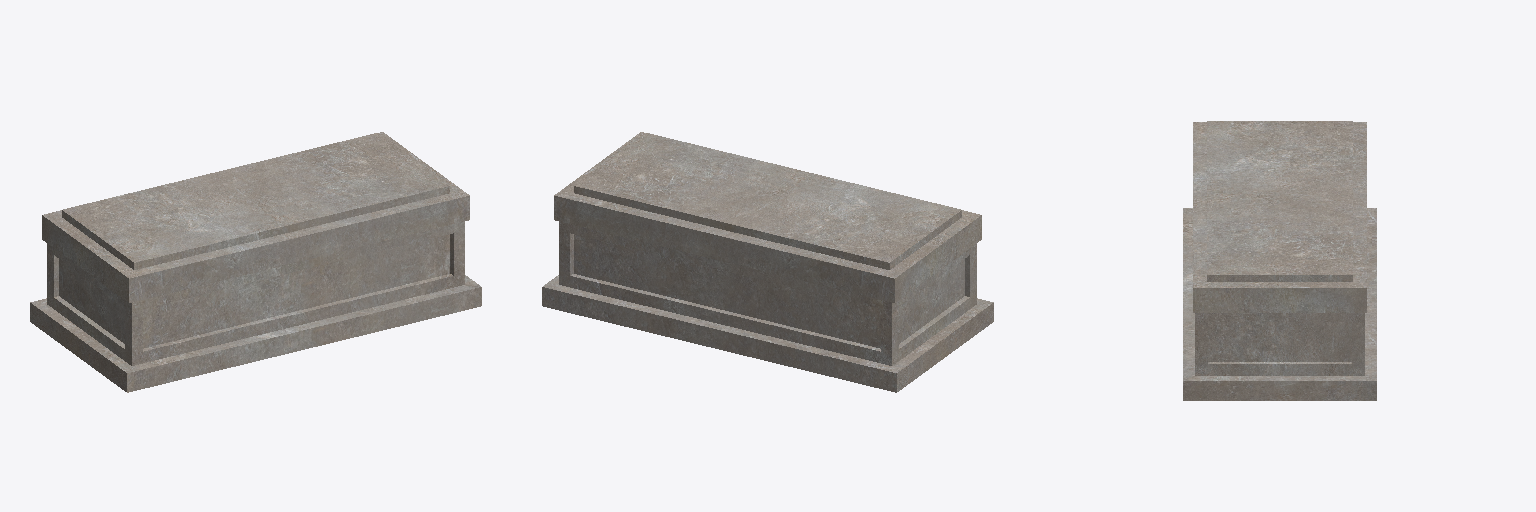
The picture shows the model from 3 angles: view 1: azimuth 30°, elevation 25°; view 2: azimuth 150°, elevation 25°; view 3: azimuth 270°, elevation 25°; orthographic projection.
Visible parts, largest first — view 1: crypt_top, crypt; view 2: crypt_top, crypt; view 3: crypt_top, crypt.
Boxes of the visible parts, x1=… form: crypt_top: x1=42, y1=132, x2=469, y2=302; crypt: x1=30, y1=222, x2=481, y2=392; crypt_top: x1=554, y1=132, x2=981, y2=302; crypt: x1=542, y1=222, x2=993, y2=392; crypt_top: x1=1193, y1=121, x2=1366, y2=312; crypt: x1=1183, y1=208, x2=1376, y2=400.
Bounding box in the file's own units: 41.66 × 13.06 × 19.74.
1 materials, 1 textured.